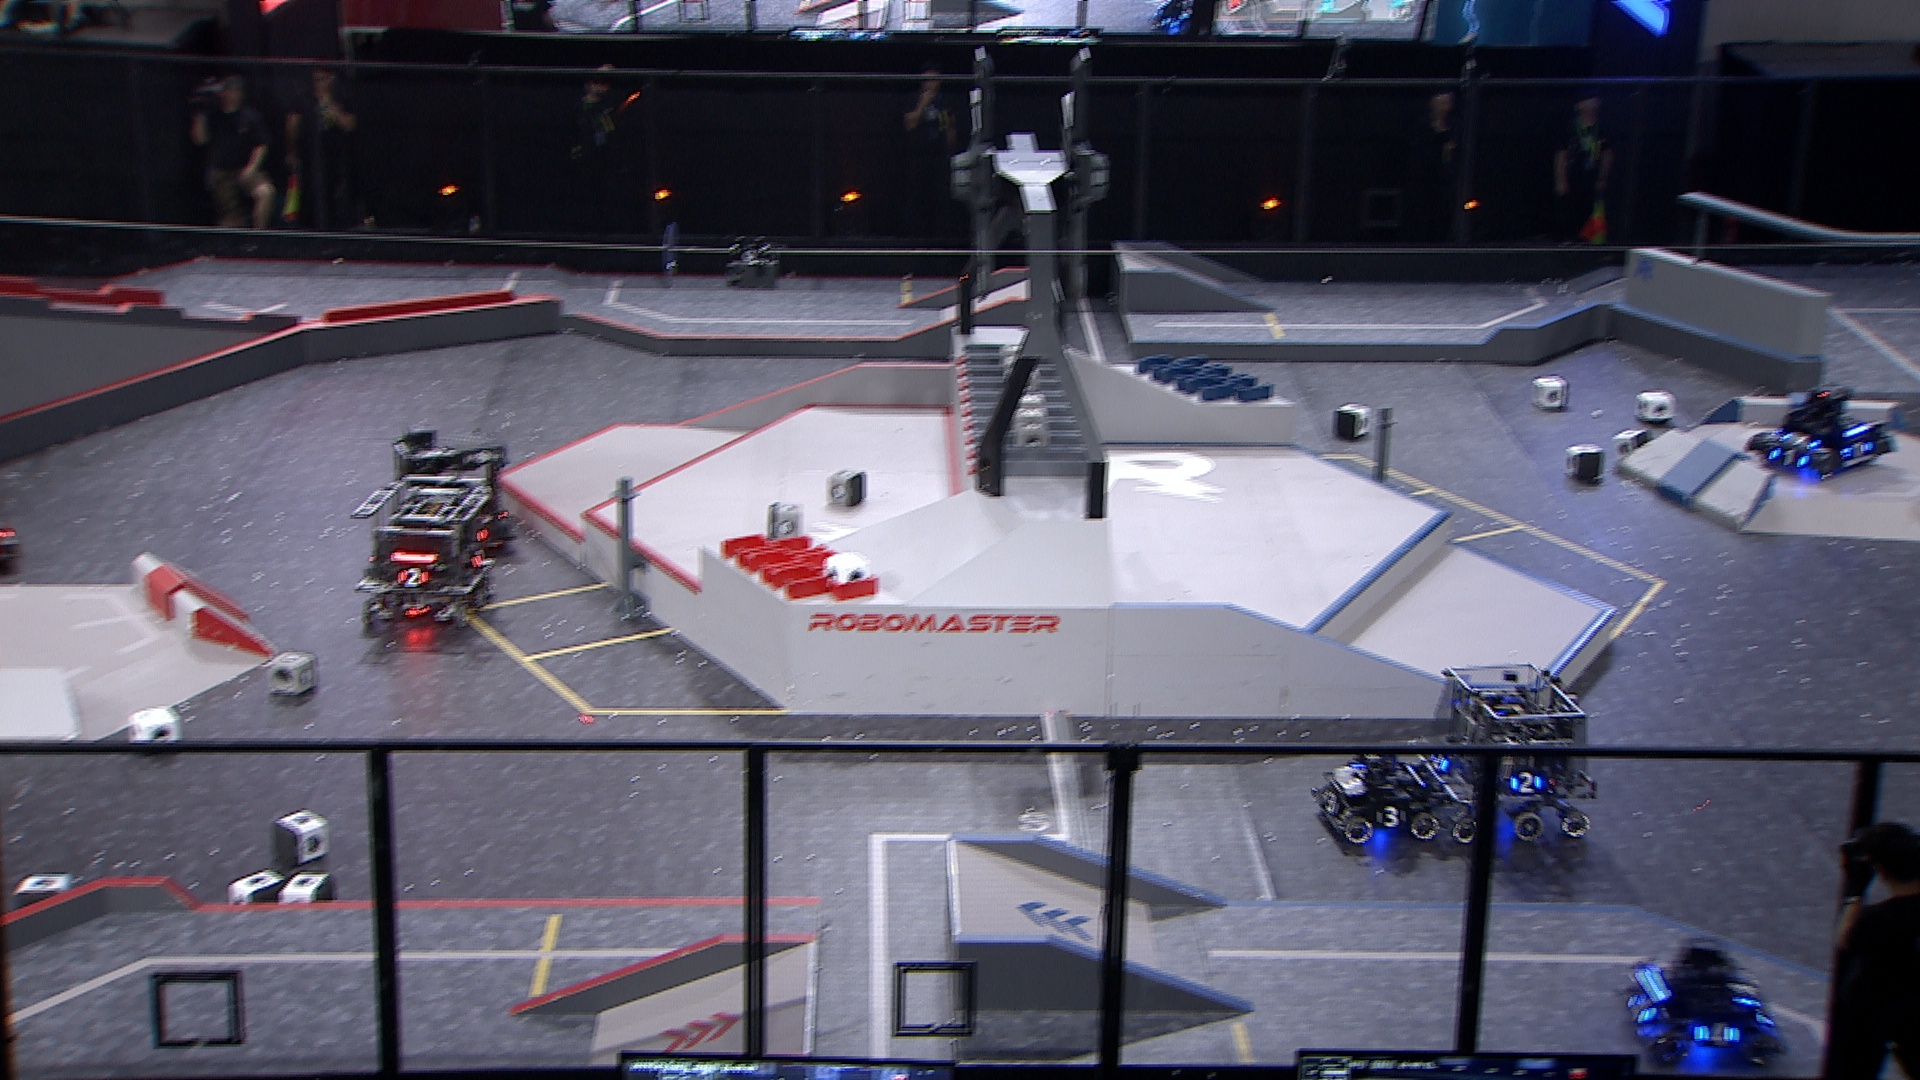armor: (1695, 1022, 1742, 1048), (1727, 977, 1760, 1010), (1626, 989, 1655, 1025), (1766, 447, 1811, 469), (1373, 804, 1408, 828), (1509, 769, 1543, 793), (394, 566, 430, 588), (1319, 790, 1342, 816), (1782, 433, 1821, 448), (1841, 442, 1874, 458), (467, 547, 487, 572), (1427, 754, 1452, 773)
car: (1415, 661, 1596, 851), (1614, 935, 1789, 1071), (351, 475, 498, 633), (389, 433, 520, 559), (1745, 386, 1898, 484), (1307, 742, 1449, 845)
